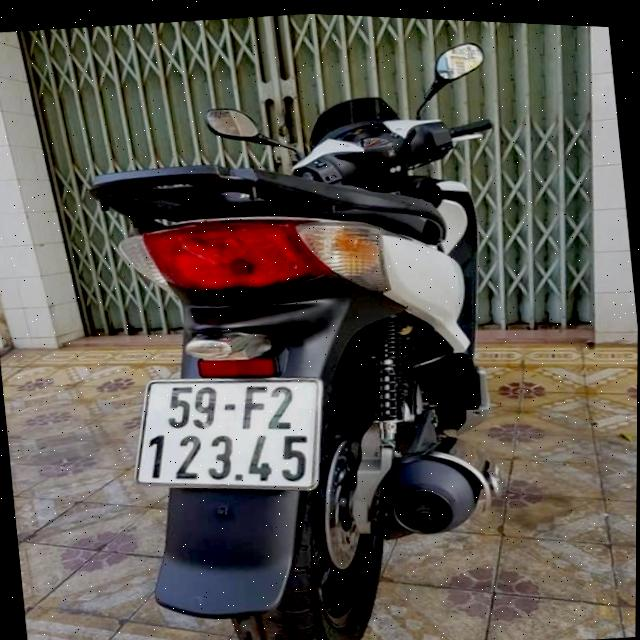motorcycle: (63, 15, 573, 640)
plate: (125, 356, 334, 510)
